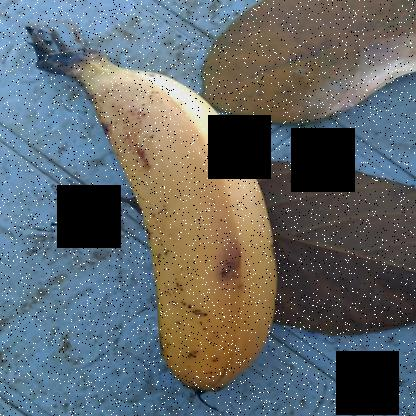ripe: (67, 37, 280, 396)
